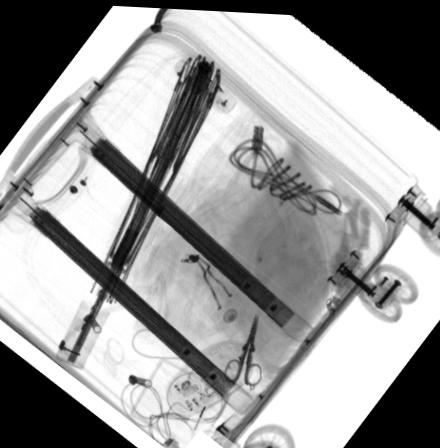Scissors: (222, 305, 263, 384)
